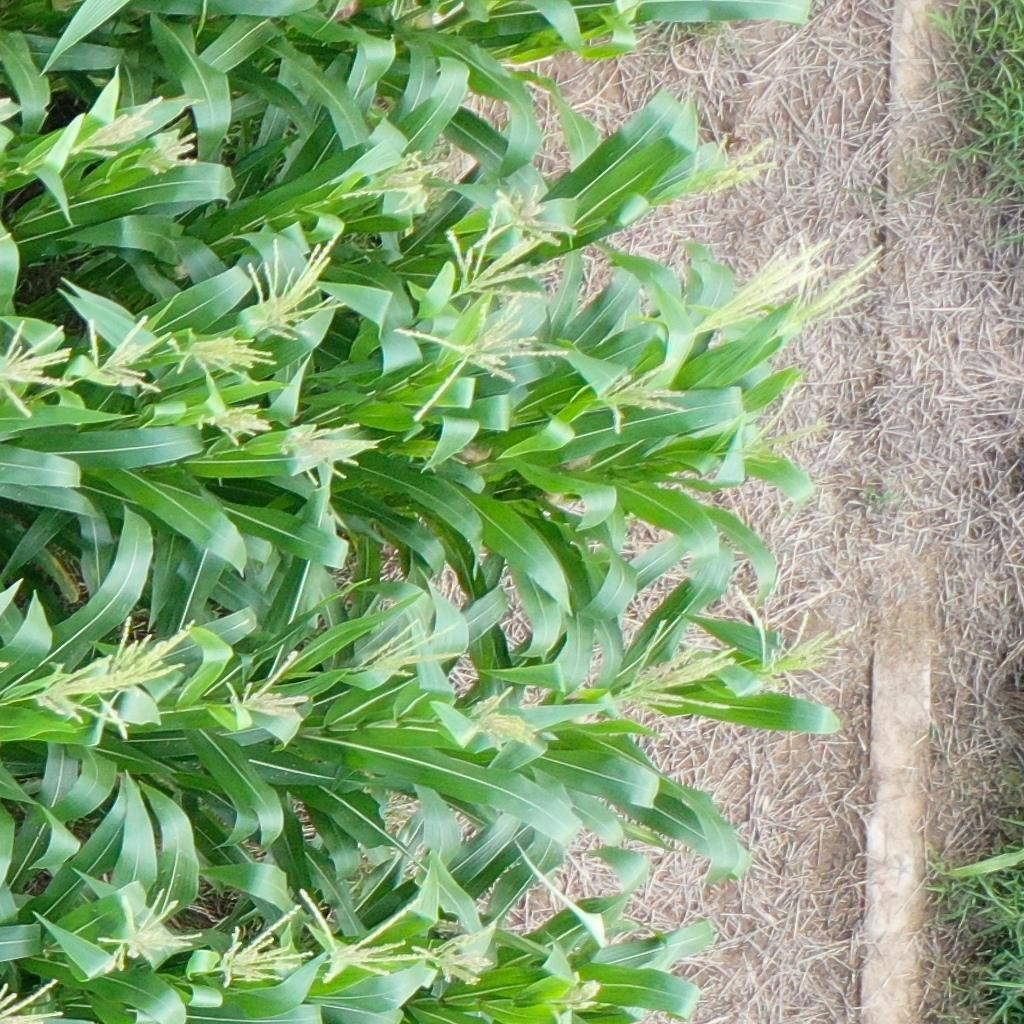Tassel: (387, 300, 580, 428), (688, 232, 830, 335), (777, 228, 893, 350), (732, 577, 863, 685), (652, 119, 791, 217), (624, 608, 746, 719), (295, 886, 427, 983), (442, 204, 550, 306), (245, 236, 348, 342), (728, 382, 830, 479), (96, 885, 204, 971), (349, 611, 467, 686), (216, 903, 315, 989), (1, 317, 85, 416), (219, 648, 316, 732), (35, 659, 139, 737), (284, 417, 386, 492), (84, 313, 171, 398), (96, 613, 196, 683), (174, 326, 281, 388), (600, 365, 696, 433), (64, 93, 165, 156), (465, 689, 548, 756), (495, 184, 578, 248), (413, 927, 494, 991), (347, 152, 447, 198), (202, 400, 278, 456), (128, 133, 206, 183), (1, 974, 71, 1024), (543, 969, 600, 1024)
